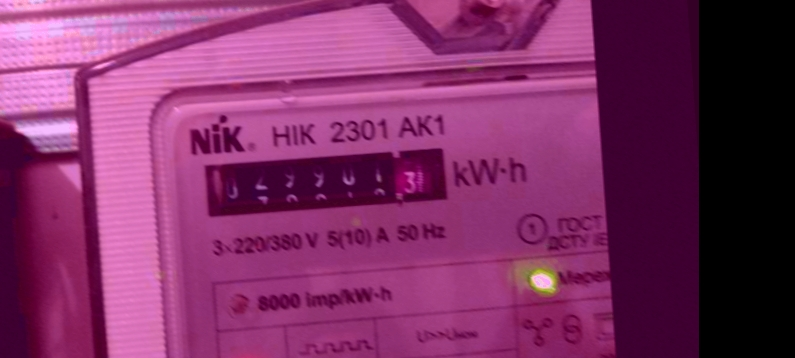0: (220, 172, 240, 200), (339, 158, 356, 188)
1: (369, 155, 384, 184)
2: (250, 164, 270, 192)
3: (399, 168, 418, 195)
9: (280, 162, 298, 190), (311, 161, 326, 189)
screen: (194, 137, 458, 227)
